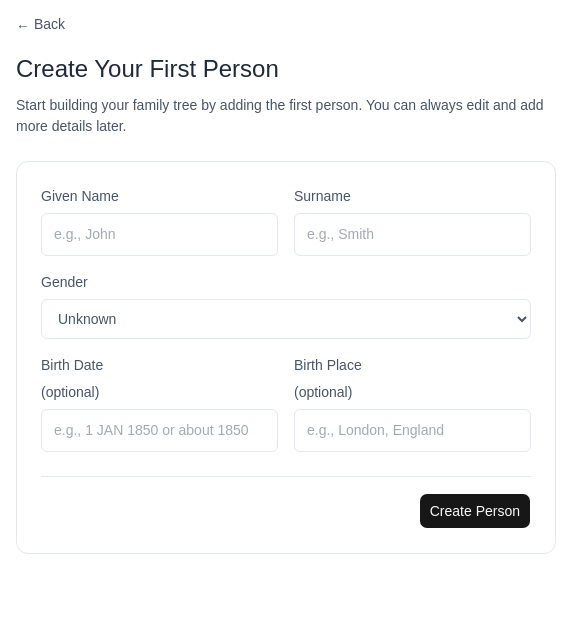
Scenario: Onboarding first person dates (#996) › offers no Keep as text for a date that reads but does not exist
The width and height of the screenshot is (573, 634).
Type "Ada" into the field labelled "Given Name" at [160, 234], box [41,213,278,256]
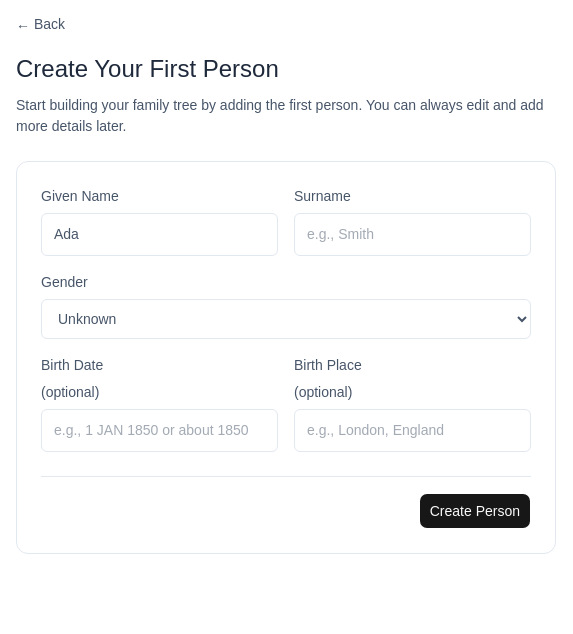
Type "31 FEB 1900" into the field labelled "Birth Date (optional)" at [160, 430], box [41,409,278,452]
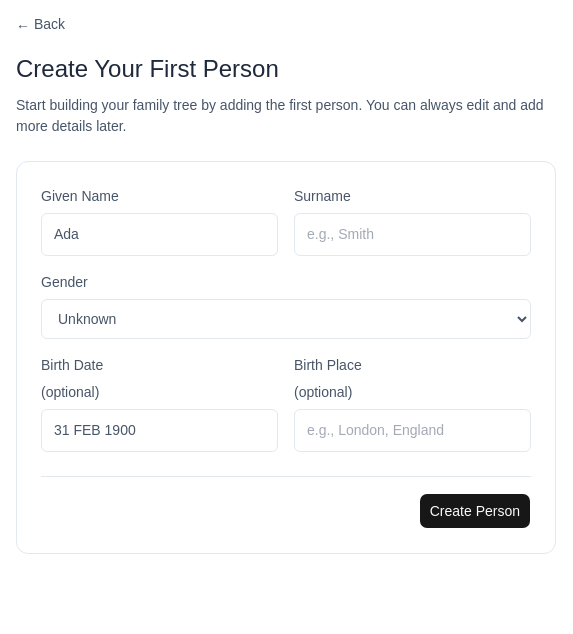
Click the button "Create Person" at [475, 511], box [419,493,531,529]
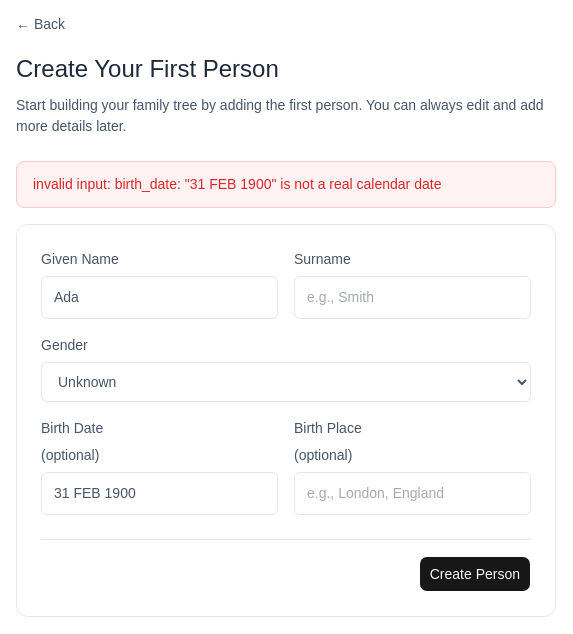
Expected: the message shows "is not a real calendar date", [33,176,441,192]
